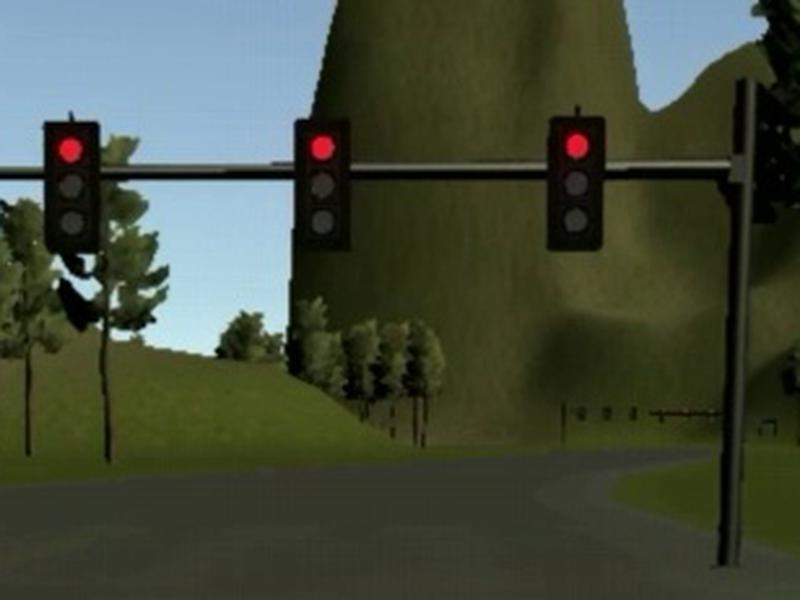Red: (293, 120, 352, 251), (45, 121, 99, 253), (552, 116, 601, 251)
